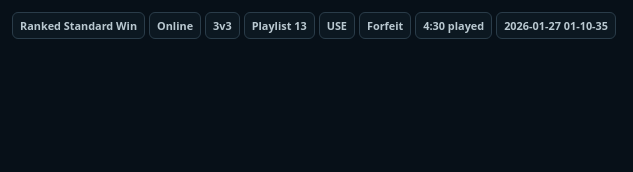
Test: replay insights UI › labels compact match metadata pills with tappable plain-language help
Click the button with class "metadata-pill" showing "Ranked Standard Win" at (79, 26), box [12, 12, 145, 39]
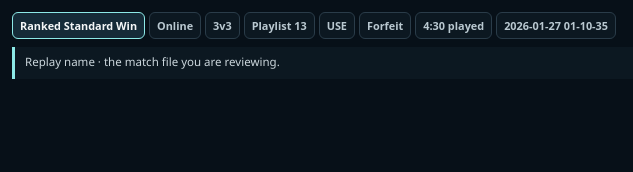
Expected: the button with class "metadata-pill" is expanded
Expected: the text "the match file you are reviewing" is shown, [25, 55, 280, 70]
Click the button with class "metadata-pill" showing "Ranked Standard Win" at (79, 26), box [12, 12, 145, 39]
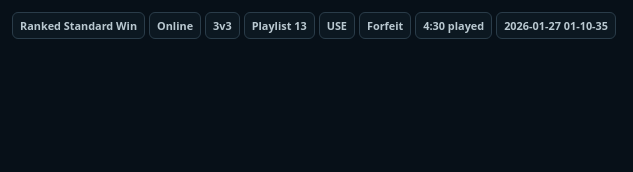
Expected: the text with class "metadata-explanation" is gone
